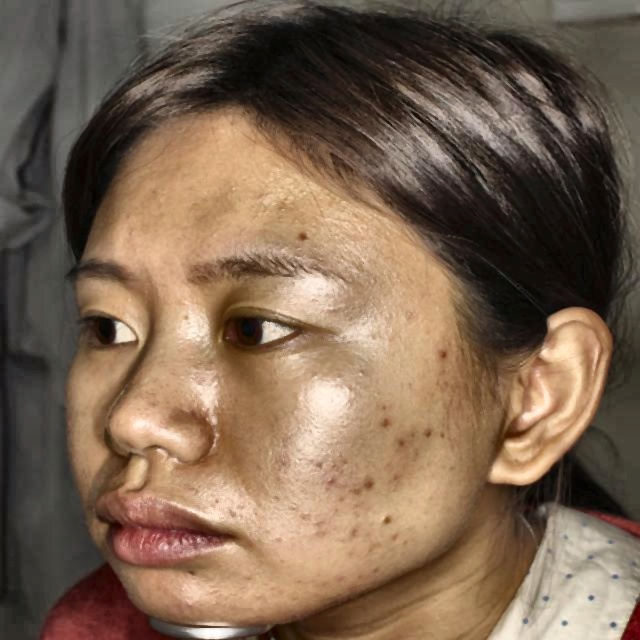pustule: (358, 472, 380, 501), (428, 343, 450, 370), (374, 411, 393, 435), (421, 419, 437, 446), (377, 511, 398, 529), (391, 432, 409, 451)
